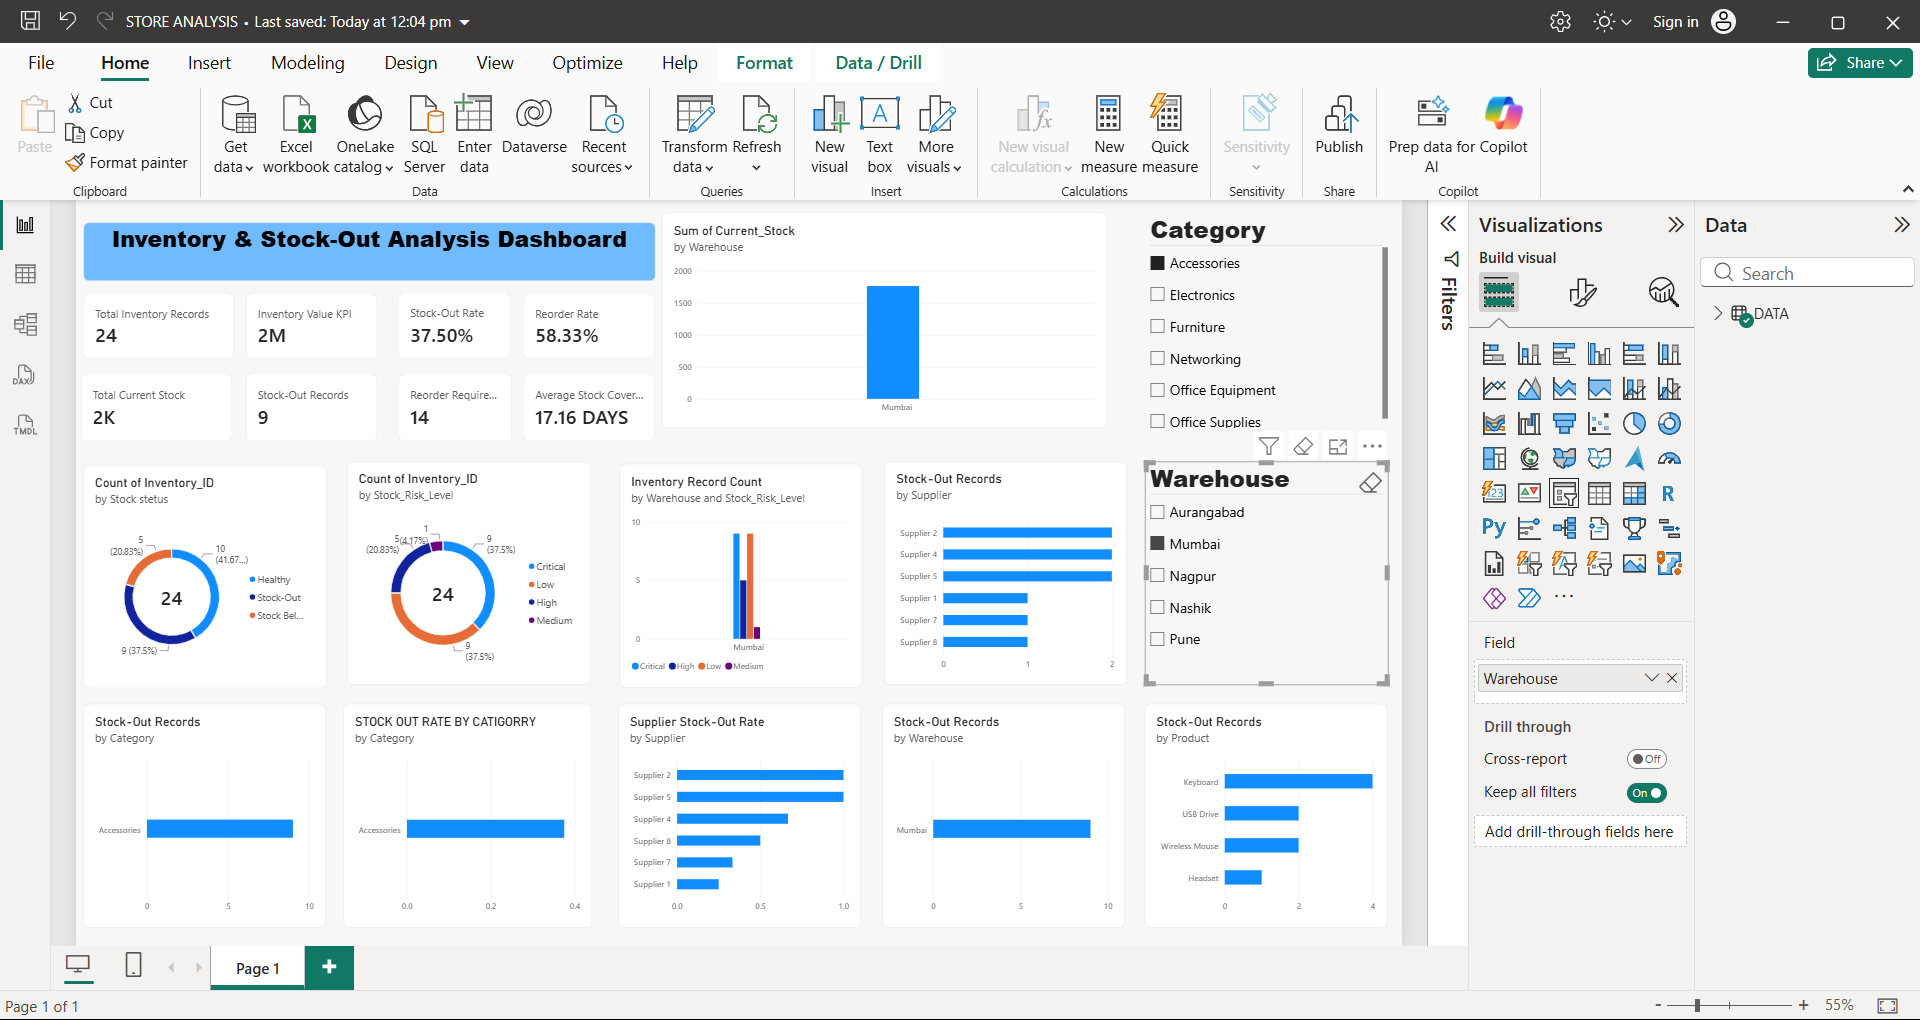

This screenshot's page, from the dashboard's own definition file:
{"tool":"powerbi","page":{"name":"Page 1","canvas":[1920,1080],"ordinal":0},"visuals":[{"type":"cardVisual","fields":{"Data":["DATA.Total Inventory Records"]},"box":[10,136,218,94],"z":0},{"type":"cardVisual","fields":{"Data":["DATA.Total Current Stock"]},"box":[8,252,218,98],"z":1000},{"type":"cardVisual","fields":{"Data":["DATA.Inventory Value KPI"]},"box":[246,136,190,94],"z":2000},{"type":"cardVisual","fields":{"Data":["DATA.Stock-Out Records"]},"box":[246,252,190,98],"z":3000},{"type":"cardVisual","fields":{"Data":["DATA.Stock-Out Rate"]},"box":[466,134,162,96],"z":4000},{"type":"cardVisual","fields":{"Data":["DATA.Reorder Required KPI"]},"box":[466,252,164,98],"z":5000},{"type":"cardVisual","fields":{"Data":["DATA.Reorder Rate"]},"box":[648,136,190,94],"z":6000},{"type":"cardVisual","fields":{"Data":["DATA.Average Stock Coverage Days"]},"box":[648,252,190,98],"z":7000},{"type":"clusteredBarChart","fields":{"Category":["DATA.Category"],"Y":["DATA.Stock-Out Records"]},"box":[10,730,350.9,323.6],"z":8000},{"type":"clusteredBarChart","fields":{"Category":["DATA.Category"],"Y":["DATA.STOCK OUT RATE BY CATIGORRY"]},"box":[387.5,730,360,324],"z":9000},{"type":"clusteredBarChart","fields":{"Category":["DATA.Warehouse"],"Y":["DATA.Stock-Out Records"]},"box":[1168,730,351,324],"z":10000},{"type":"clusteredBarChart","fields":{"Category":["DATA.Product"],"Y":["DATA.Stock-Out Records"]},"box":[1548,730,351,324],"z":11000},{"type":"donutChart","fields":{"Category":["DATA.Stock stetus"],"Y":["CountNonNull(DATA.Inventory_ID)"]},"box":[10,384,351.7,323.3],"z":12000},{"type":"columnChart","fields":{"Category":["DATA.Warehouse"],"Y":["Sum(DATA.Current_Stock)"]},"box":[848,18,644,312],"z":13000},{"type":"clusteredBarChart","fields":{"Category":["DATA.Supplier"],"Y":["DATA.Stock-Out Records"]},"box":[1170,378,350,324],"z":14000},{"type":"clusteredBarChart","fields":{"Category":["DATA.Supplier"],"Y":["DATA.Supplier Stock-Out Rate"]},"box":[786,730,350.9,323.6],"z":15000},{"type":"donutChart","fields":{"Category":["DATA.Stock_Risk_Level"],"Y":["CountNonNull(DATA.Inventory_ID)"]},"box":[392,378,351.7,323.3],"z":15001},{"type":"clusteredColumnChart","fields":{"Category":["DATA.Warehouse"],"Series":["DATA.Stock_Risk_Level"],"Y":["DATA.Inventory Record Count"]},"box":[788,382,350.9,323.6],"z":15002},{"type":"slicer","fields":{"Values":["DATA.Warehouse"]},"box":[1548,378,352,324],"z":15003},{"type":"slicer","fields":{"Values":["DATA.Category"]},"box":[1548,18,352,312],"z":15004},{"type":"textbox","box":[10,32,828,85],"z":15005}]}

Visuals, with their boxes on the page's 1920x1080 design canvas (x1, y1, x2, y2). These are canvas units, not pixel positions in the 1920x1020 screenshot, which may show the page scaled, cropped or inside an application window:
cardVisual - DATA.Total Inventory Records: <bbox>10, 136, 228, 230</bbox>
cardVisual - DATA.Total Current Stock: <bbox>8, 252, 226, 350</bbox>
cardVisual - DATA.Inventory Value KPI: <bbox>246, 136, 436, 230</bbox>
cardVisual - DATA.Stock-Out Records: <bbox>246, 252, 436, 350</bbox>
cardVisual - DATA.Stock-Out Rate: <bbox>466, 134, 628, 230</bbox>
cardVisual - DATA.Reorder Required KPI: <bbox>466, 252, 630, 350</bbox>
cardVisual - DATA.Reorder Rate: <bbox>648, 136, 838, 230</bbox>
cardVisual - DATA.Average Stock Coverage Days: <bbox>648, 252, 838, 350</bbox>
clusteredBarChart - DATA.Category x DATA.Stock-Out Records: <bbox>10, 730, 361, 1054</bbox>
clusteredBarChart - DATA.Category x DATA.STOCK OUT RATE BY CATIGORRY: <bbox>388, 730, 748, 1054</bbox>
clusteredBarChart - DATA.Warehouse x DATA.Stock-Out Records: <bbox>1168, 730, 1519, 1054</bbox>
clusteredBarChart - DATA.Product x DATA.Stock-Out Records: <bbox>1548, 730, 1899, 1054</bbox>
donutChart - DATA.Stock stetus x CountNonNull(DATA.Inventory_ID): <bbox>10, 384, 362, 707</bbox>
columnChart - DATA.Warehouse x Sum(DATA.Current_Stock): <bbox>848, 18, 1492, 330</bbox>
clusteredBarChart - DATA.Supplier x DATA.Stock-Out Records: <bbox>1170, 378, 1520, 702</bbox>
clusteredBarChart - DATA.Supplier x DATA.Supplier Stock-Out Rate: <bbox>786, 730, 1137, 1054</bbox>
donutChart - DATA.Stock_Risk_Level x CountNonNull(DATA.Inventory_ID): <bbox>392, 378, 744, 701</bbox>
clusteredColumnChart - DATA.Warehouse x DATA.Stock_Risk_Level: <bbox>788, 382, 1139, 706</bbox>
slicer - DATA.Warehouse: <bbox>1548, 378, 1900, 702</bbox>
slicer - DATA.Category: <bbox>1548, 18, 1900, 330</bbox>
textbox: <bbox>10, 32, 838, 117</bbox>
